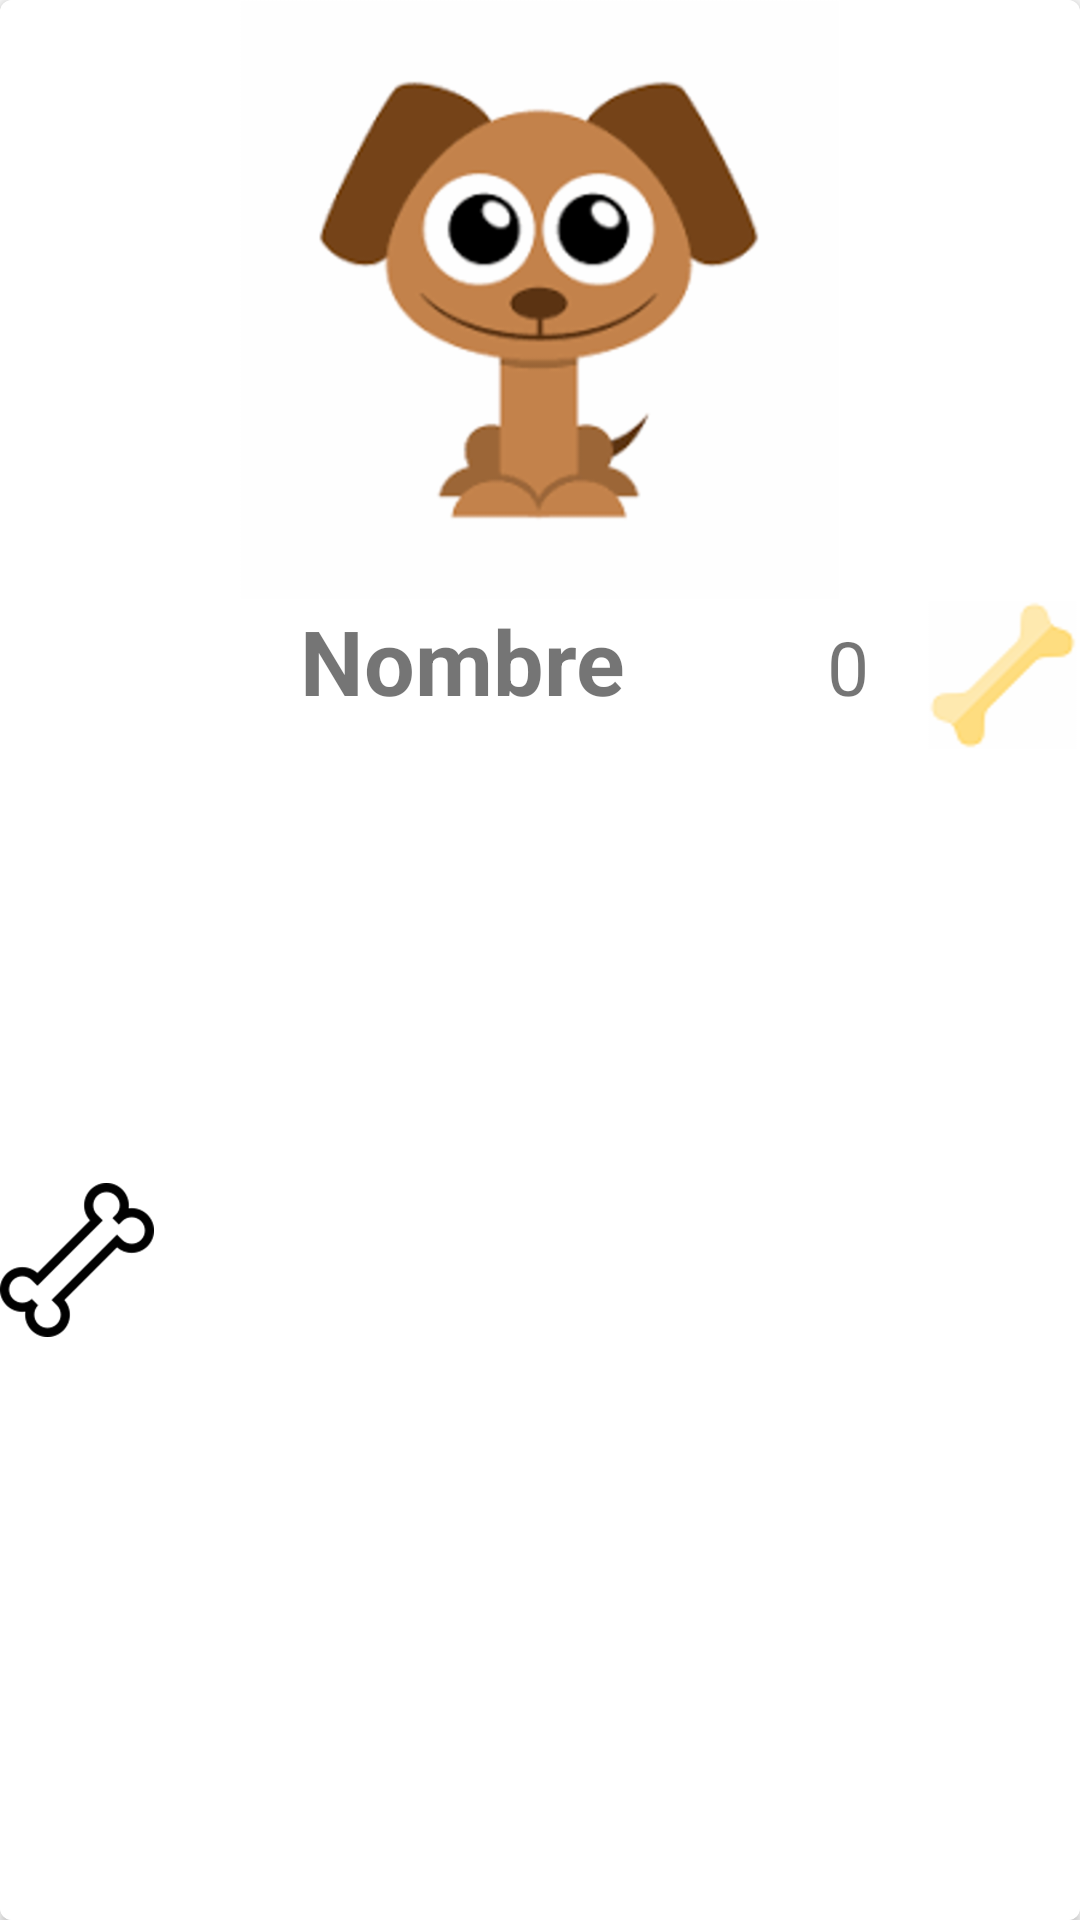

Named icons in this screenshot (1080×1920) and their bounding boxes, (x1, y1, x2, y2):
hueso amarillo: (931, 603, 1075, 747)
